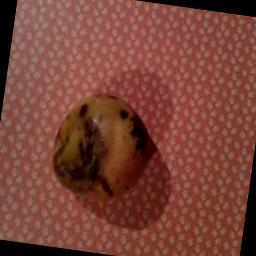Mango Rotten: (33, 78, 172, 220)
